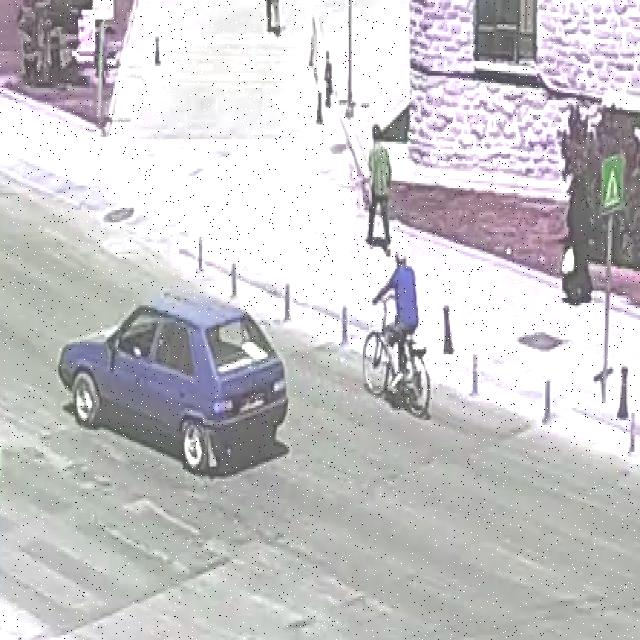Cycle: (54, 289, 295, 478), (346, 245, 460, 418)
